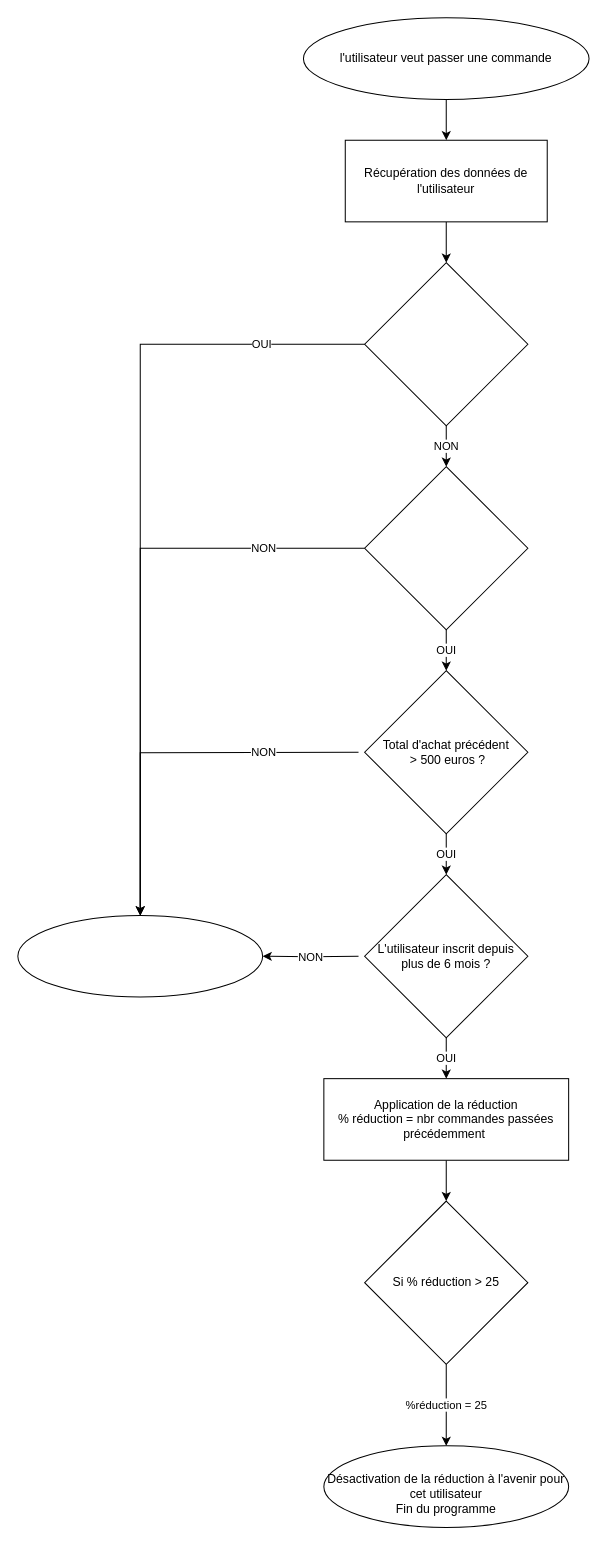
Image size: 607x1545. Some labels were removed from this diagram. Here are the shapes that lost their labels. From the top down, the centre of each, then its label:
(x=446, y=344): L'utilisateur a-t-il déja bénéficié de cette réduction ?
(x=446, y=548): Est ce que le prix dépasse 150 euros ?
(x=140, y=955): Pas de réduction Fin du programme
